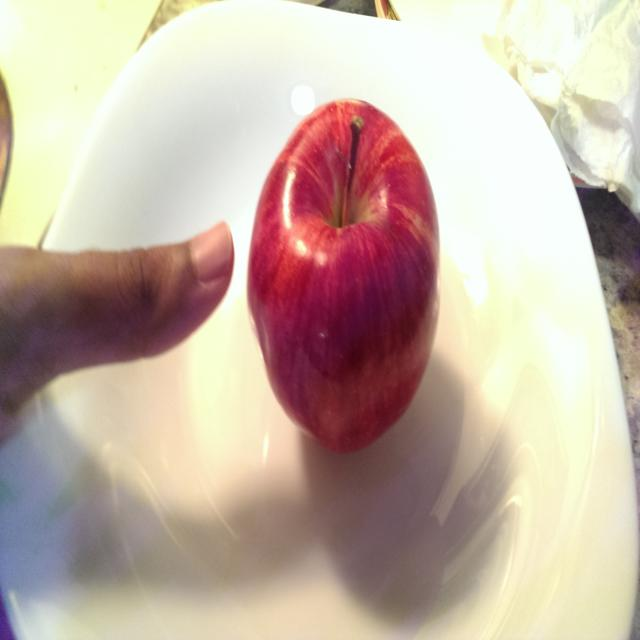apple: (246, 91, 448, 451)
